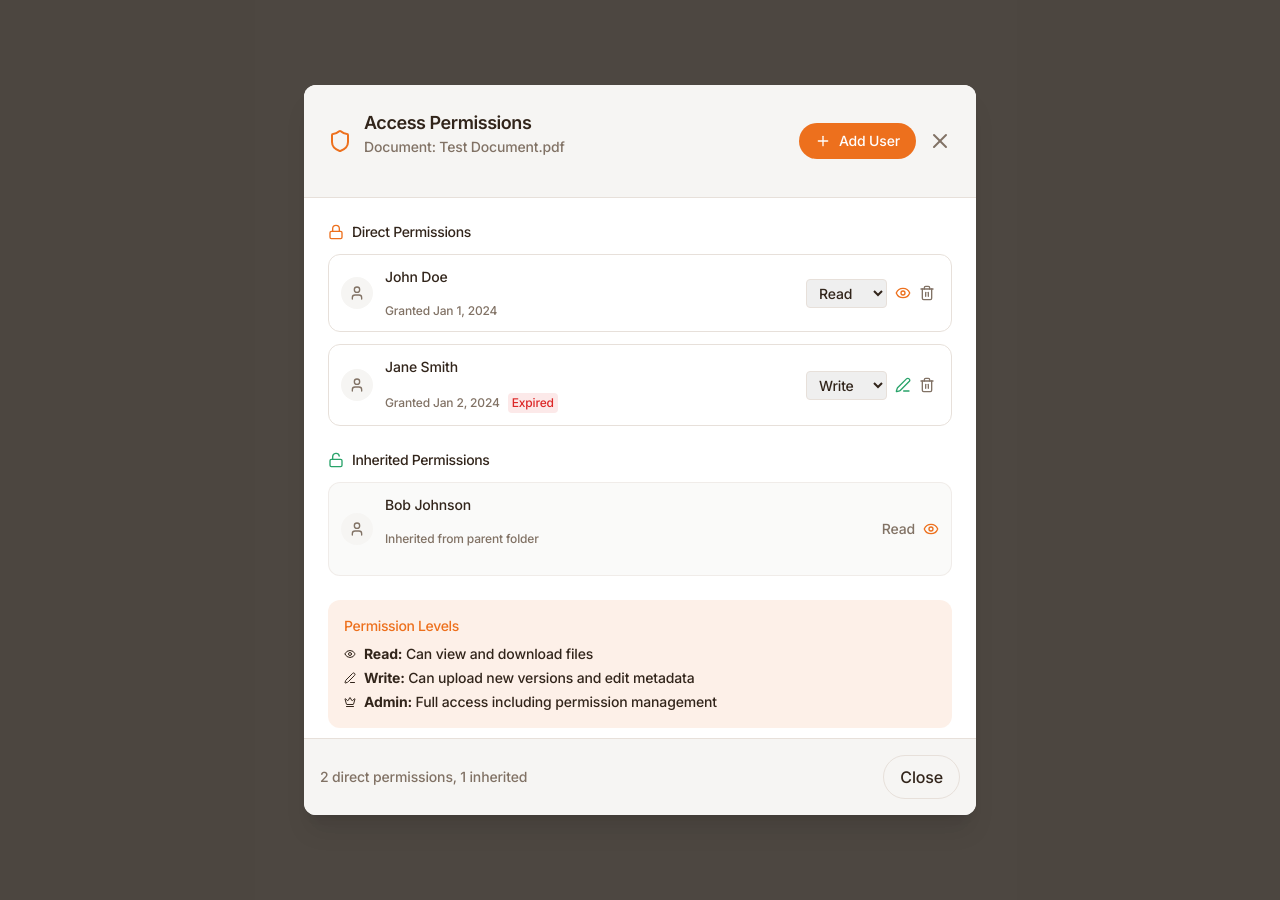
Test: DocumentPermissions › Add Permission › should filter users by search term
Click the button "Add User" at (857, 141), box [799,123,916,159]
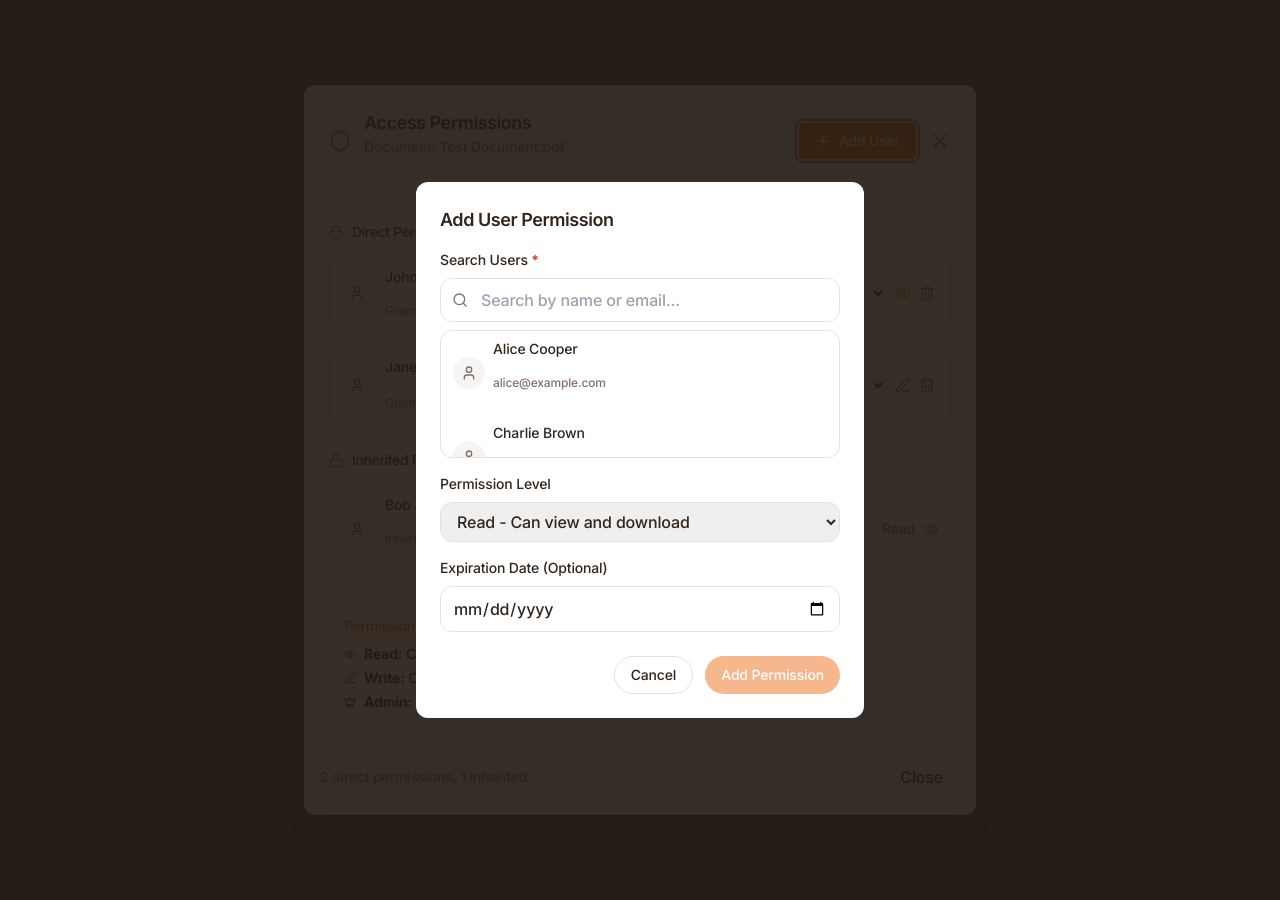
Now the field with placeholder "Search by name or email..." is shown
Type "Alice" into the field with placeholder "Search by name or email..." at (640, 300), box [440,278,840,322]
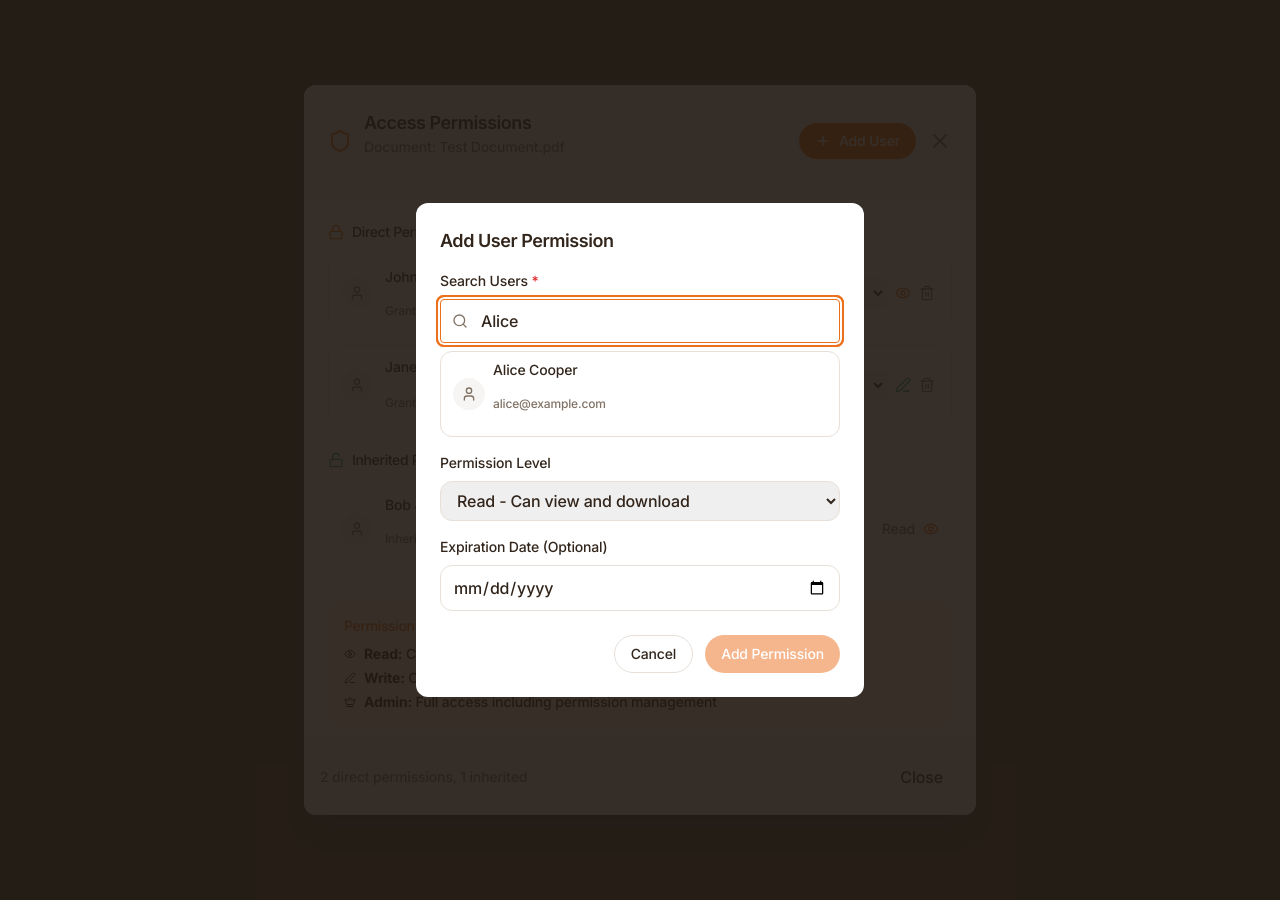
Now the text "Alice Cooper" is shown, box [493,361,578,378]
Now the button "Charlie Brown" is gone
